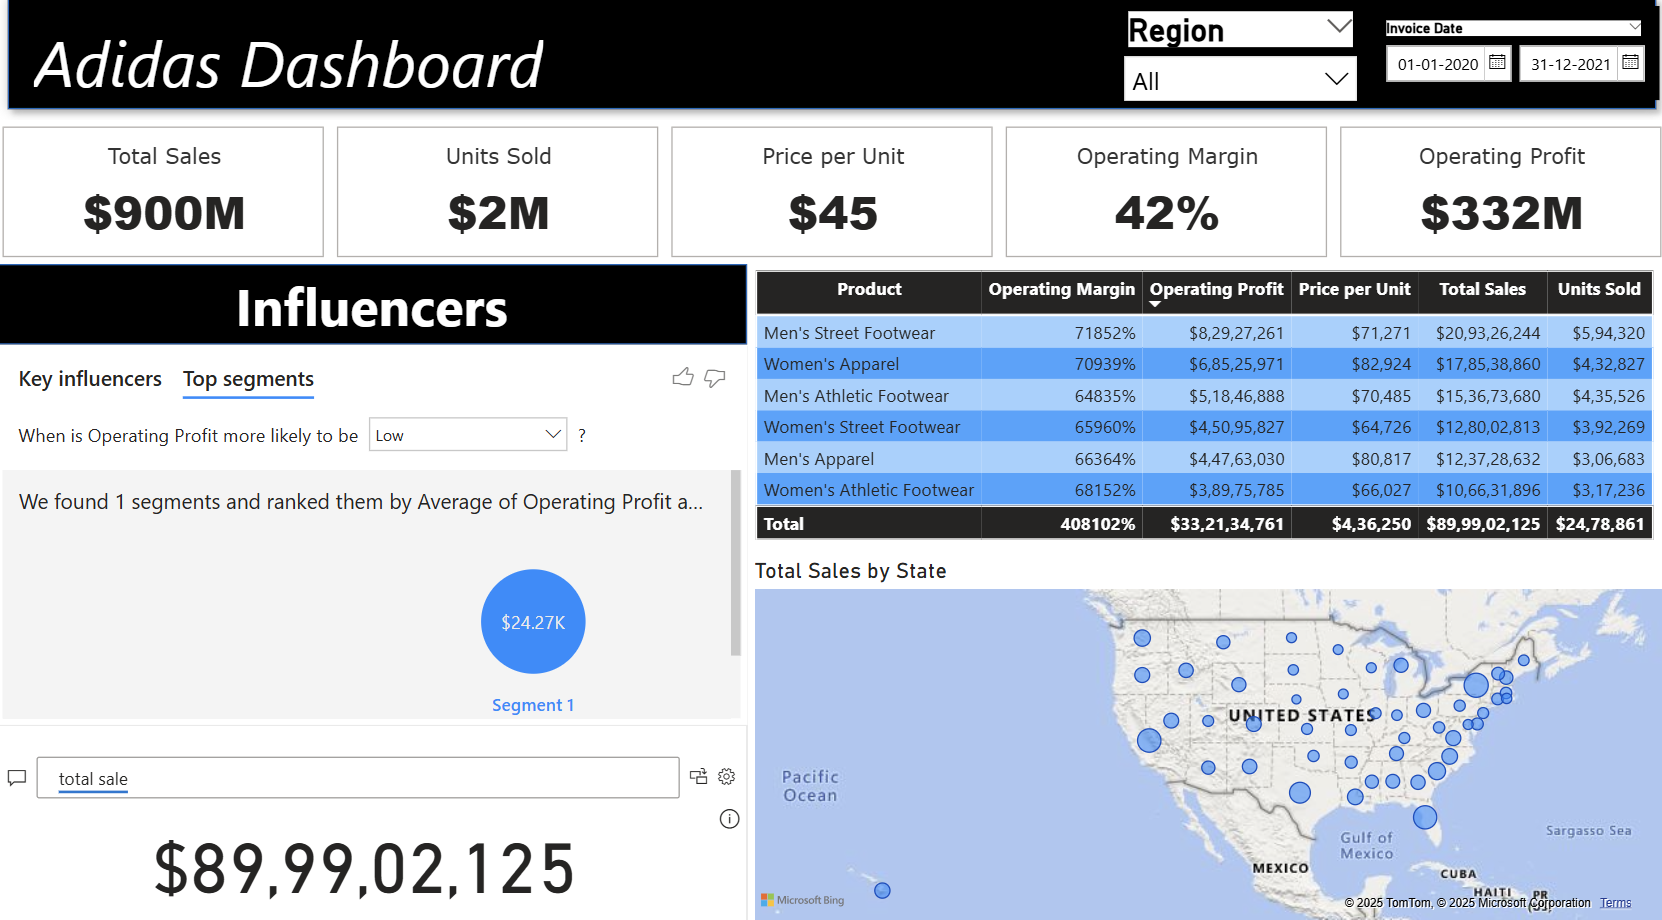

This screenshot's page, from the dashboard's own definition file:
{"tool":"powerbi","page":{"name":"Page 1","canvas":[1280,720],"ordinal":0},"visuals":[{"type":"shape","box":[0,0,1280,103.3],"z":0},{"type":"cardVisual","fields":{"Data":["Sum(Table 1 (Data Sales Adidas).Total Sales)","Sum(Table 1 (Data Sales Adidas).Units Sold)","Avg(Table 1 (Data Sales Adidas).Price per Unit)","Avg(Table 1 (Data Sales Adidas).Operating Margin)","Sum(Table 1 (Data Sales Adidas).Operating Profit)"]},"box":[0,103.3,1280,110],"z":1000},{"type":"tableEx","fields":{"Values":["Table 1 (Data Sales Adidas).Product","Sum(Table 1 (Data Sales Adidas).Operating Margin)","Sum(Table 1 (Data Sales Adidas).Operating Profit)","Sum(Table 1 (Data Sales Adidas).Price per Unit)","Sum(Table 1 (Data Sales Adidas).Total Sales)","Sum(Table 1 (Data Sales Adidas).Units Sold)"]},"box":[575,213.3,706.7,226.7],"z":2000},{"type":"qnaVisual","box":[0,565,575,161.7],"z":3000},{"type":"slicer","fields":{"Values":["Table 1 (Data Sales Adidas).Region"]},"box":[853.3,15,200,73.3],"z":4000},{"type":"slicer","fields":{"Values":["Table 1 (Data Sales Adidas).Invoice Date"]},"box":[1051,15,223,72],"z":5000},{"type":"map","fields":{"Category":["Table 1 (Data Sales Adidas).State"],"Size":["Sum(Table 1 (Data Sales Adidas).Total Sales)"]},"box":[575,438.3,706.7,281.7],"z":6000},{"type":"keyDriversVisual","fields":{"Target":["Table 1 (Data Sales Adidas).Operating Profit"],"ExplainBy":["Table 1 (Data Sales Adidas).Product"]},"box":[0,275,575,290],"z":7000},{"type":"shape","box":[0,213.3,575,61.7],"z":8000}]}

Visuals, with their boxes in screenshot pixels (x1, y1, x2, y2), scaled from the page's 1280x720 canvas onto the 1662x920 screenshot:
shape: crop(0, 0, 1661, 132)
cardVisual - Sum(Table 1 (Data Sales Adidas).Total Sales) x Sum(Table 1 (Data Sales Adidas).Units Sold): crop(0, 132, 1661, 273)
tableEx - Table 1 (Data Sales Adidas).Product x Sum(Table 1 (Data Sales Adidas).Operating Margin): crop(747, 273, 1661, 562)
qnaVisual: crop(0, 722, 747, 919)
slicer - Table 1 (Data Sales Adidas).Region: crop(1108, 19, 1368, 113)
slicer - Table 1 (Data Sales Adidas).Invoice Date: crop(1365, 19, 1654, 111)
map - Table 1 (Data Sales Adidas).State x Sum(Table 1 (Data Sales Adidas).Total Sales): crop(747, 560, 1661, 919)
keyDriversVisual - Table 1 (Data Sales Adidas).Operating Profit x Table 1 (Data Sales Adidas).Product: crop(0, 351, 747, 722)
shape: crop(0, 273, 747, 351)
